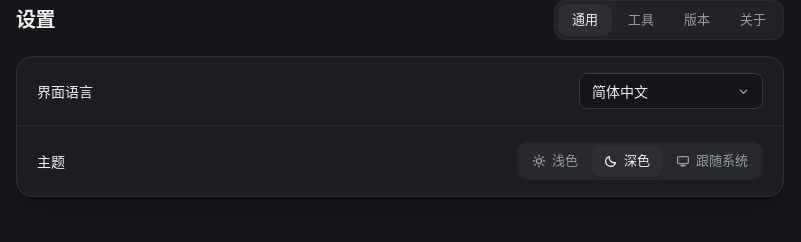
Test: SettingsPage data safety › opens the language list inside the page, not as a system overlay
Click the button with test id "settings-language" at x=671, y=91, box [579,73,763,109]
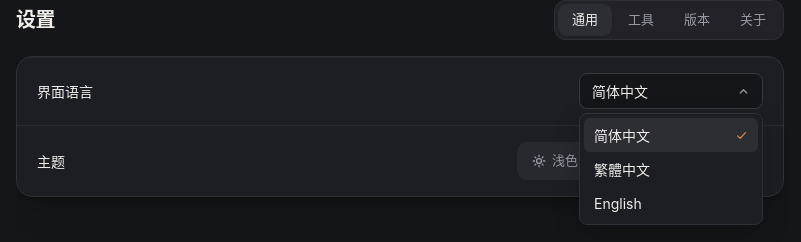
Check: the list with test id "settings-language-menu" is shown, box [579,113,763,225]
Click the option with test id "settings-language-en" at x=671, y=203, box [584,186,758,220]
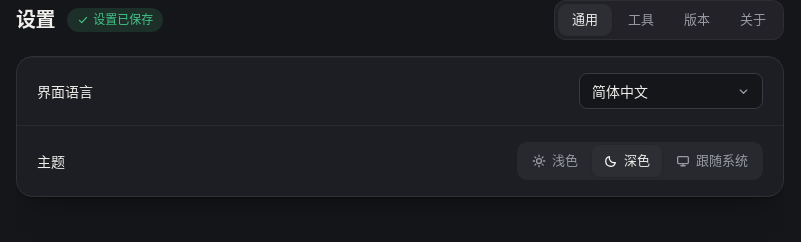
Check: the list with test id "settings-language-menu" is gone
